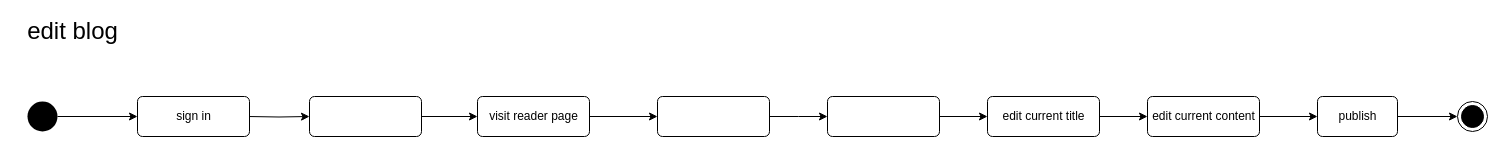
Image size: 1505x154. Some labels were removed from this diagram. The centre of each missing label's shape, as x and y in pixels:
"press edit button" goes at (713,116).
"visit editor page" goes at (883,116).
"visit home page" goes at (365,116).
